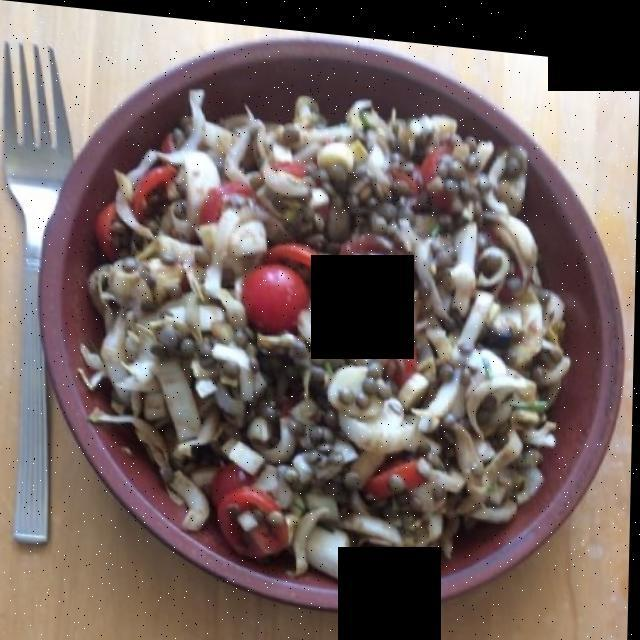lentils: (115, 112, 527, 505)
tomato: (100, 139, 444, 559)
witloof-chicory: (84, 80, 569, 568)
